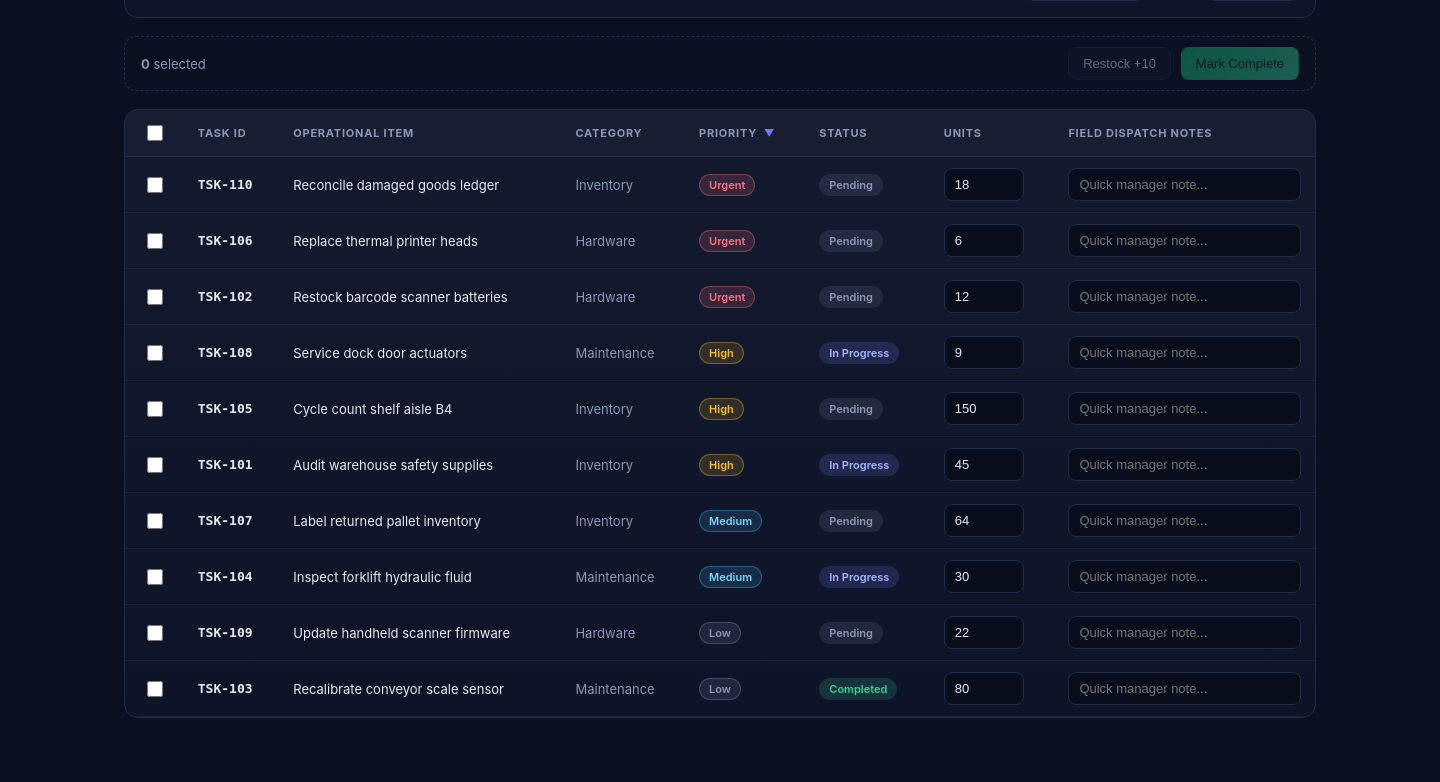
Test case: Application-Level Undo Journal › records stock edits in the Undo journal and successfully inverts them upon clicking Undo
This screenshot has width=1440, height=782.
(page scrolled)
Expected: the text "TSK-101" is shown, left=184, top=436, right=279, bottom=492
Replace the text in the number field named "Stock units for task TSK-101" with "60" at (984, 464), box left=944, top=448, right=1024, bottom=481
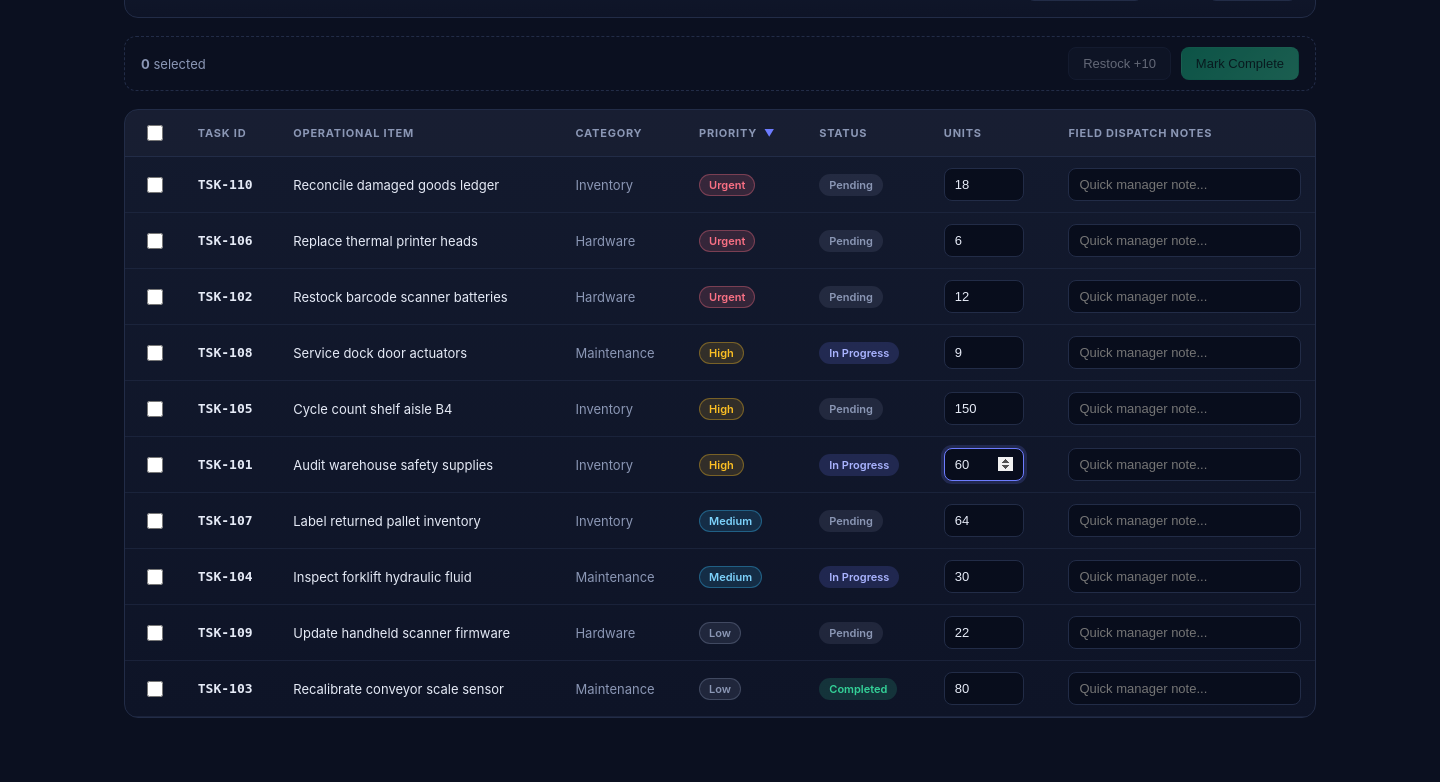
Press Tab
(page scrolled)
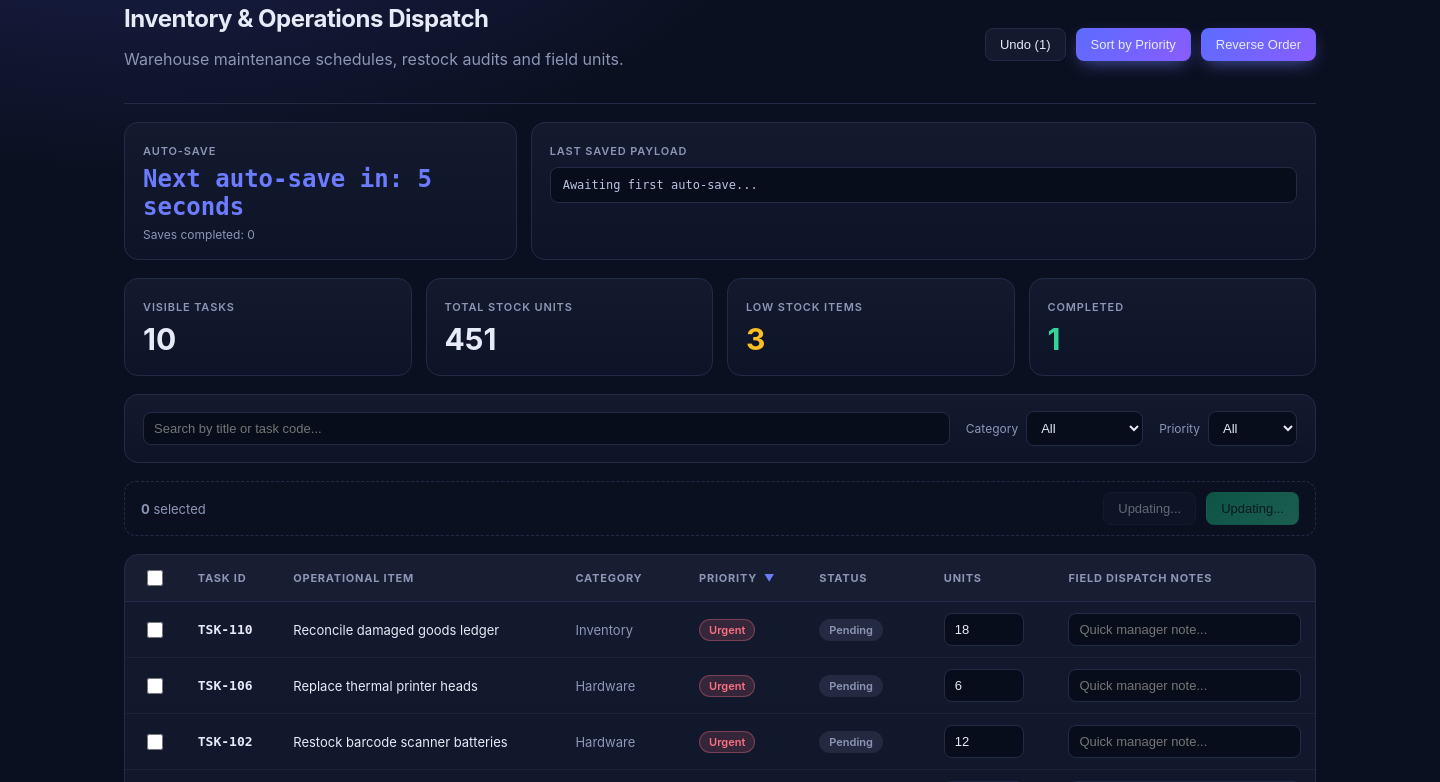
Expected: the button "Undo (1)" is enabled
Click Undo
Click the button "Undo (1)" at (1025, 44), box left=985, top=28, right=1066, bottom=61
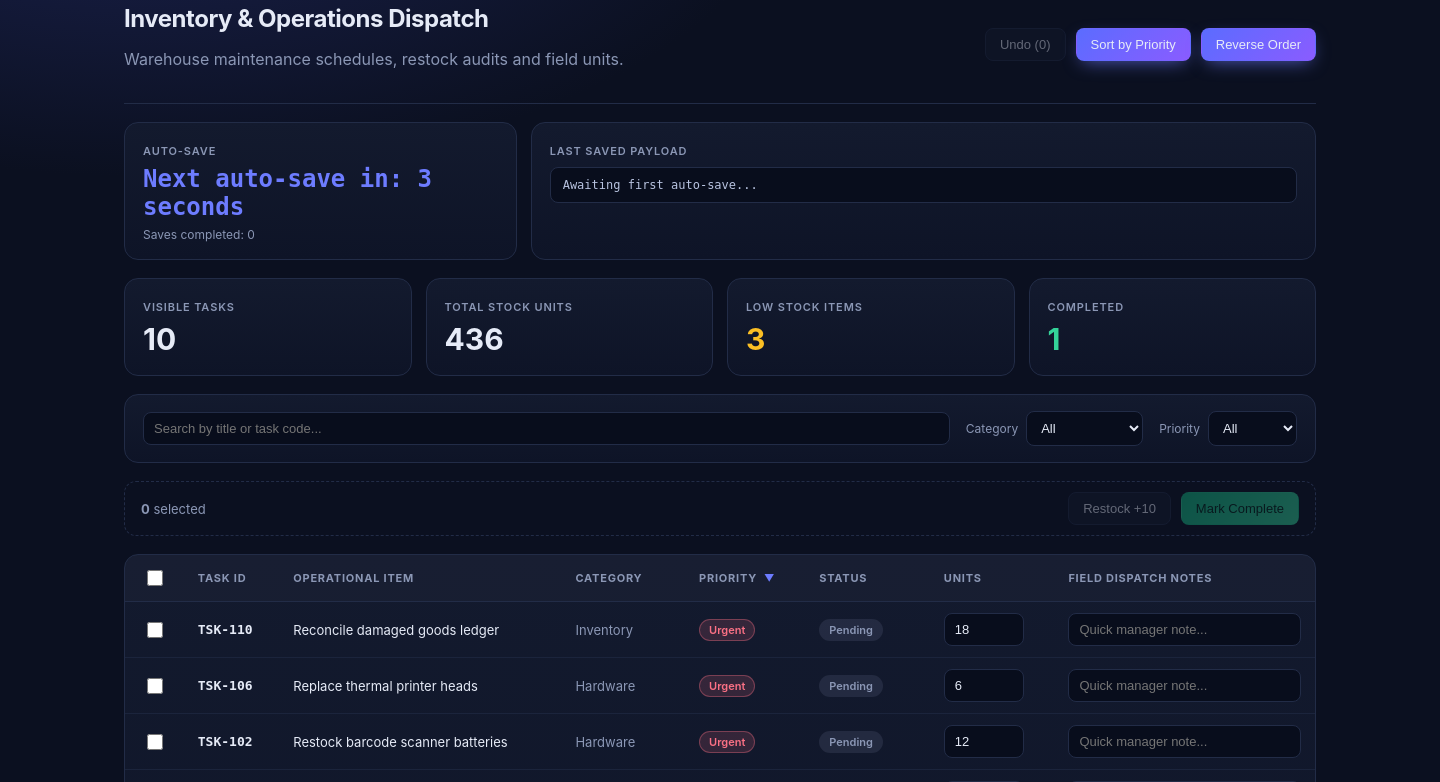
Expected: the button "Undo (0)" is disabled, left=985, top=28, right=1066, bottom=61
